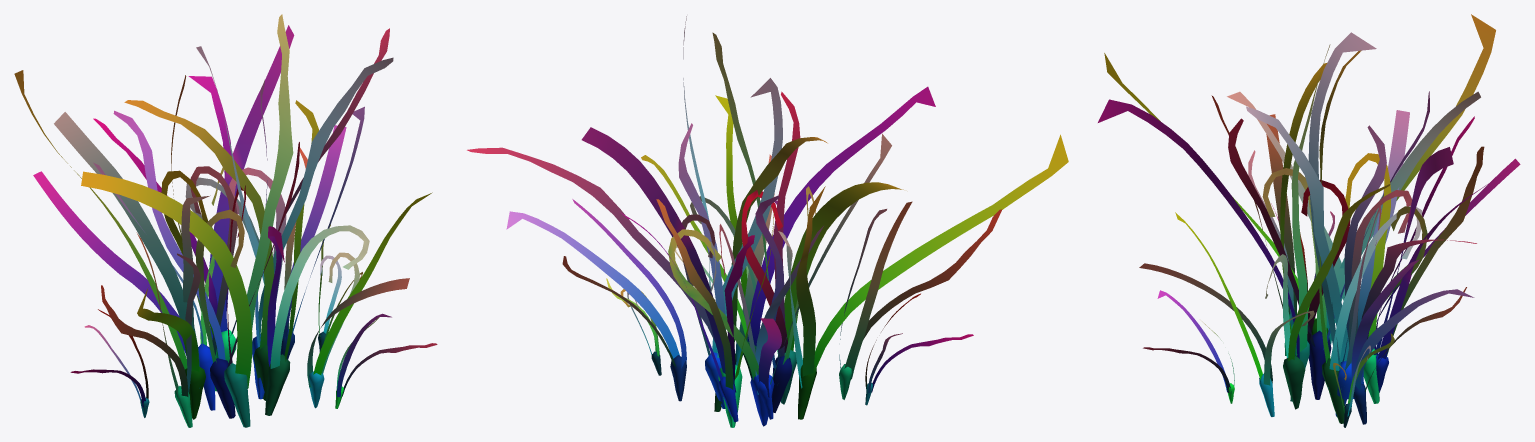
The model's file is Ribbon_Grass_tbdpec3r_High_tbdpec3r_VarE_LOD0.fbx.
The picture shows the model from 3 angles, left to right: view 1: azimuth 30°, elevation 25°; view 2: azimuth 150°, elevation 25°; view 3: azimuth 270°, elevation 25°; orthographic projection. The views are drawn at different scales.
Visible parts, largest first — view 1: _8f3e_VarE_LOD0; view 2: _8f3e_VarE_LOD0; view 3: _8f3e_VarE_LOD0.
Boxes of the visible parts, <box> form: _8f3e_VarE_LOD0: <box>14,14,437,427</box>; _8f3e_VarE_LOD0: <box>467,16,1068,427</box>; _8f3e_VarE_LOD0: <box>1098,14,1520,427</box>.
Size of the model in its own units: 34.3 by 28.89 by 28.79.
